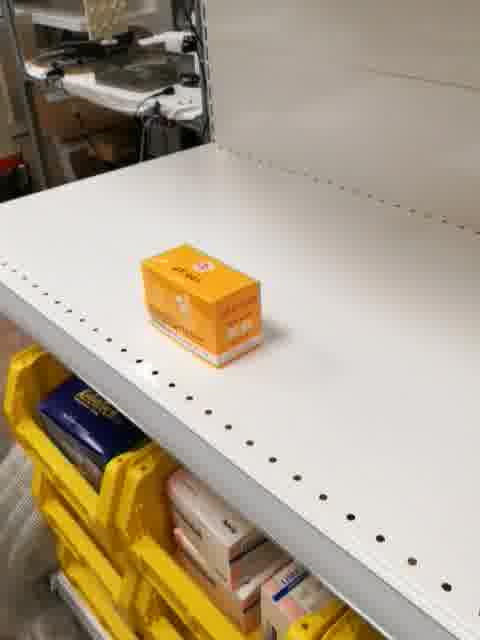jasminetea: (141, 240, 267, 370)
